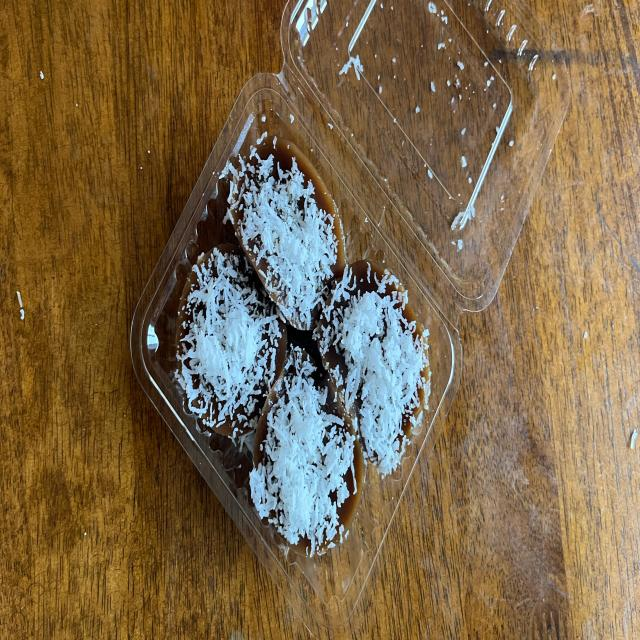Kuih lompang: (315, 260, 430, 476), (220, 133, 345, 331), (250, 344, 362, 556), (176, 247, 286, 438), (320, 182, 321, 184)
